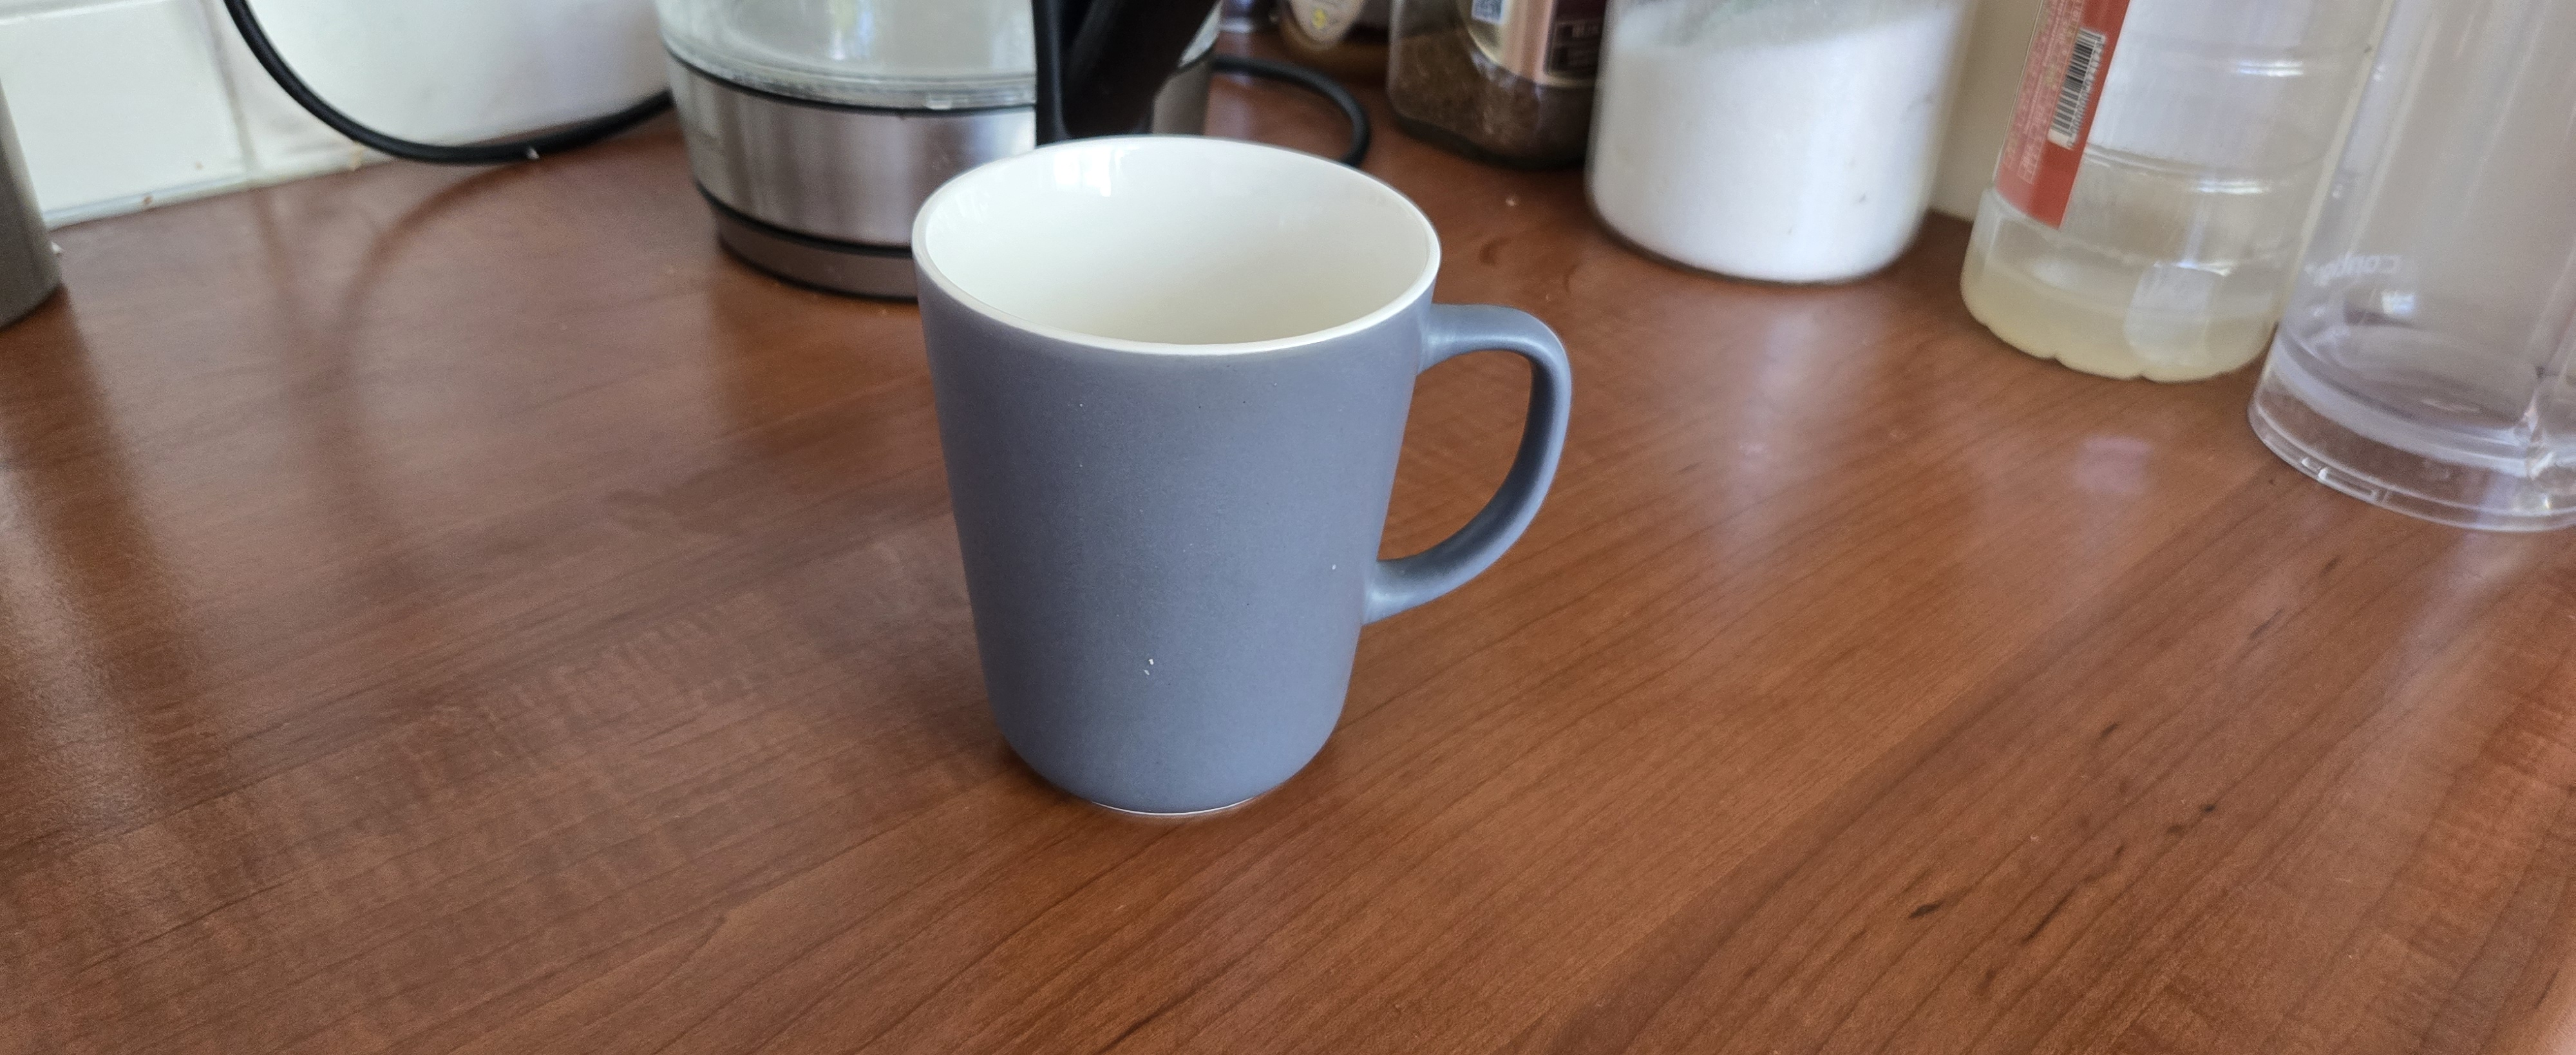mok: (815, 67, 1626, 899)
